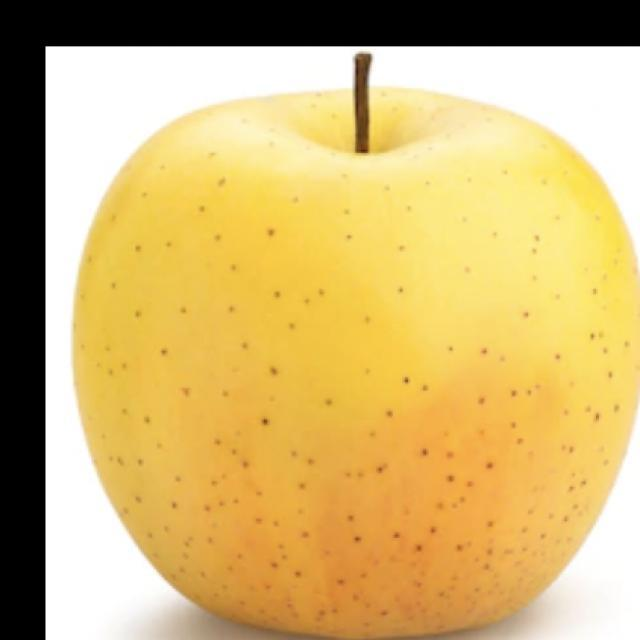Fresh Apple: (80, 84, 636, 640)
